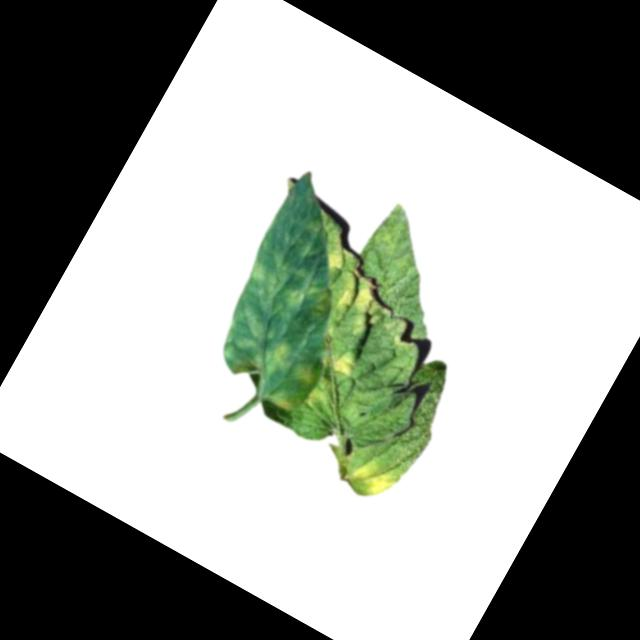Leaf_Mold: (241, 241, 343, 327), (209, 301, 274, 378), (329, 273, 390, 337), (346, 451, 402, 504), (257, 335, 301, 384), (325, 340, 371, 386), (270, 392, 303, 422), (322, 245, 351, 276), (293, 360, 322, 391)
